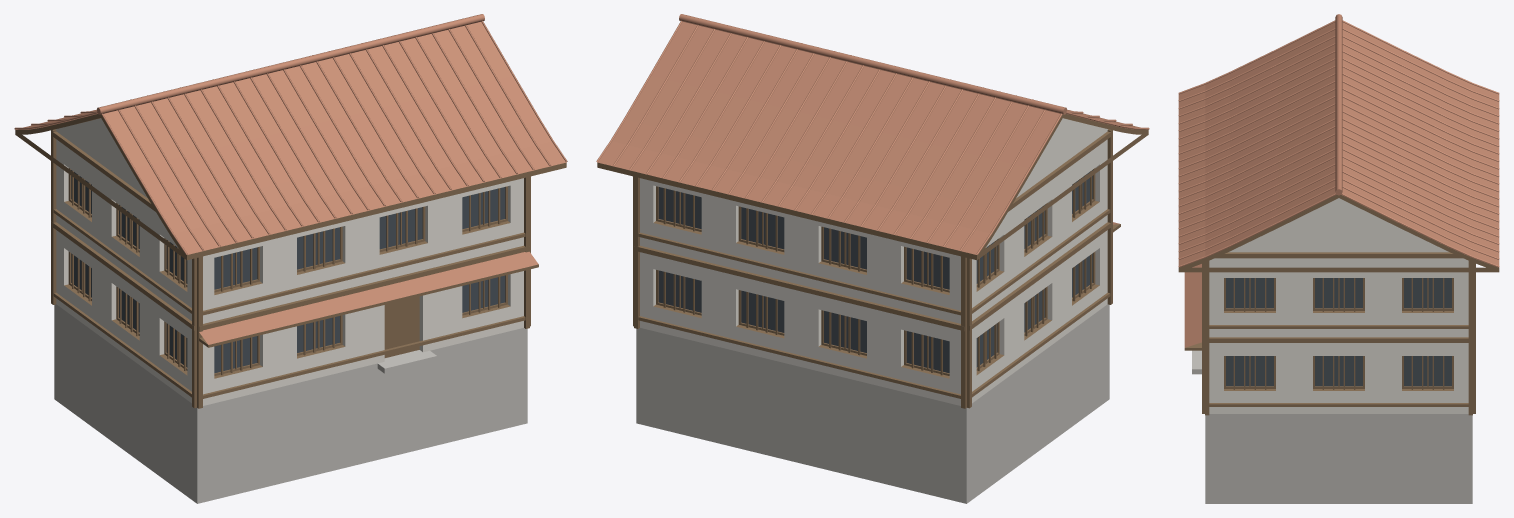
Rendered from japanese_house_2_m.glb.
3 views of the same model, side by side, from view 1: azimuth 30°, elevation 25°; view 2: azimuth 150°, elevation 25°; view 3: azimuth 270°, elevation 25° (orthographic). The views are drawn at different scales.
Visible parts, largest first — view 1: japanese_house_2_m; view 2: japanese_house_2_m; view 3: japanese_house_2_m.
Part boxes in pixels (left/top/right/bottom): japanese_house_2_m: left=14, top=14, right=567, bottom=503; japanese_house_2_m: left=596, top=14, right=1149, bottom=503; japanese_house_2_m: left=1178, top=14, right=1499, bottom=503.
Bounding box in the file's own units: 13.96 × 12.16 × 10.83.
